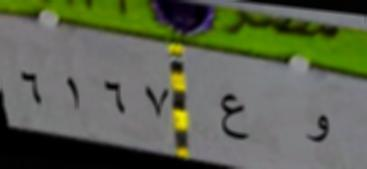1: (56, 71, 86, 121)
6: (13, 65, 45, 114), (100, 78, 132, 123)
7: (142, 79, 172, 123)
ain: (215, 84, 253, 148)
waw: (294, 96, 334, 156)
